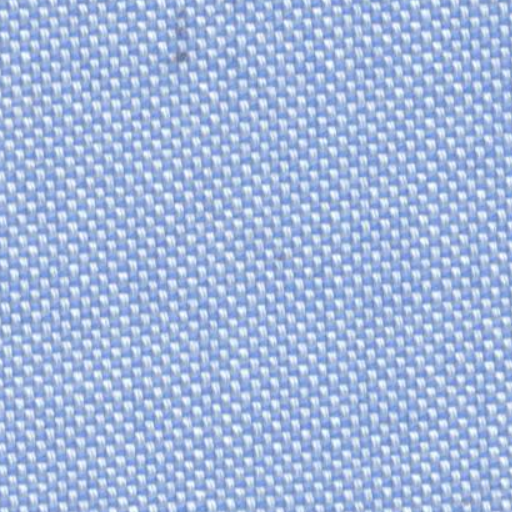WuZi: (158, 10, 209, 67)
